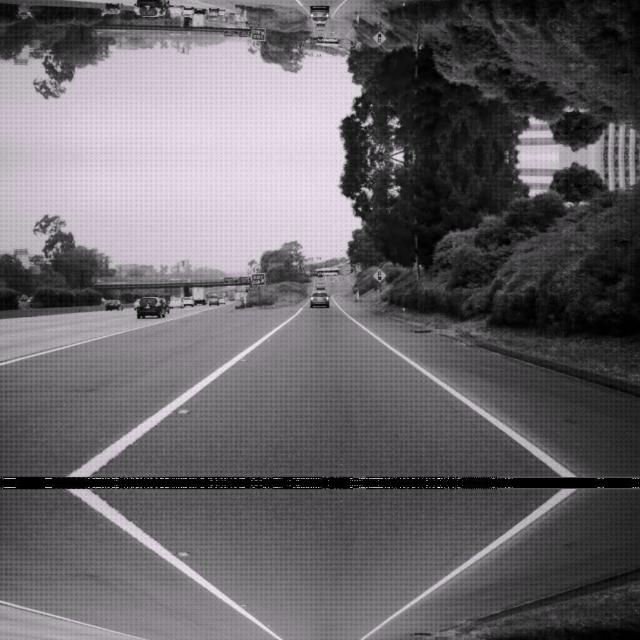signalAhead: (371, 266, 387, 282), (371, 30, 387, 46)
